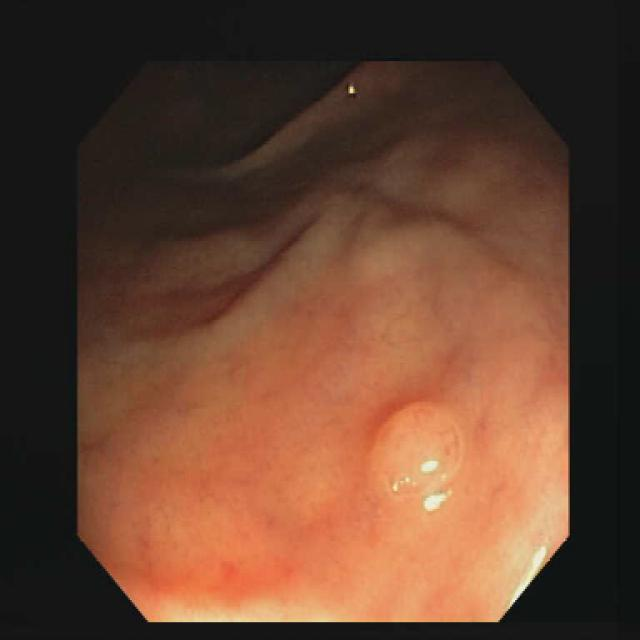tumor: (368, 402, 467, 509)
